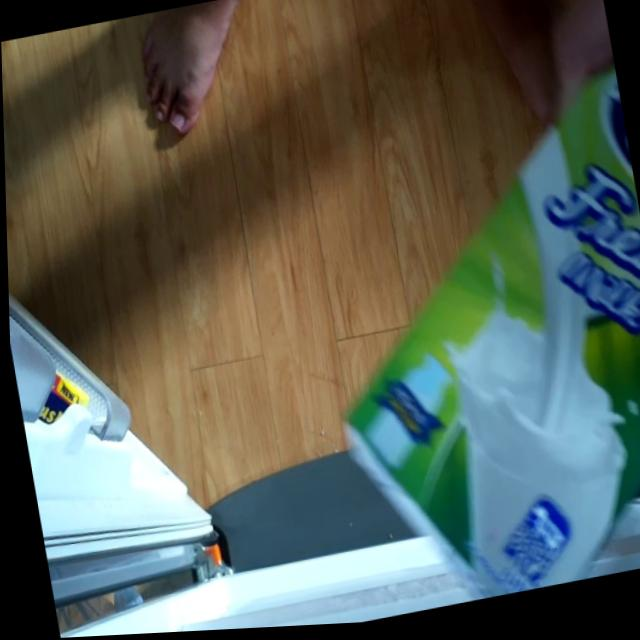milk: (291, 72, 640, 625)
